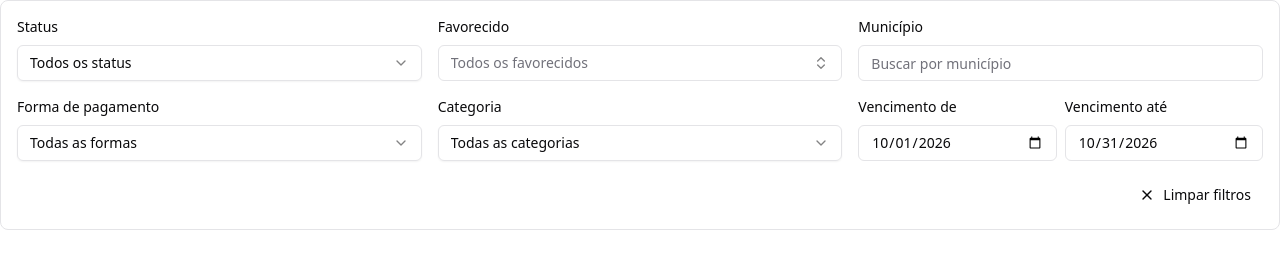
Scenario: ReportFilterPanel › restaura o mês corrente e remove o status ao limpar os filtros
What coordinates should you click on to do the following:
click the dropdown with test id "filter-status"
I would click on:
 (81, 62)
Its box is [17, 45, 422, 81].
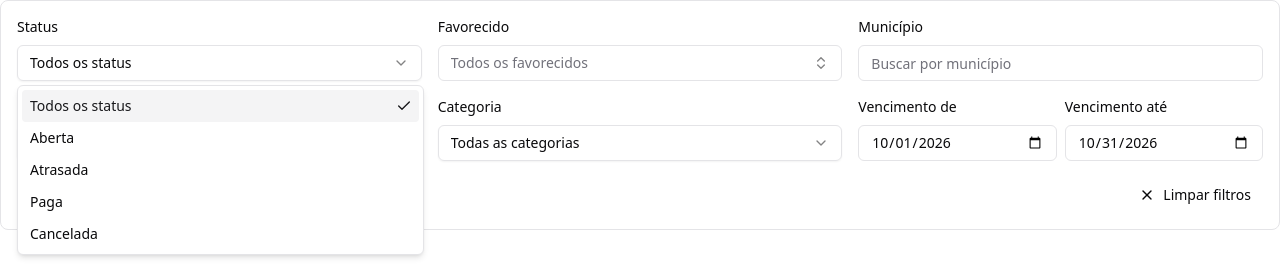
What coordinates should you click on to do the following:
click the option "Paga"
I would click on:
 (46, 202)
Its box is [30, 192, 63, 211].
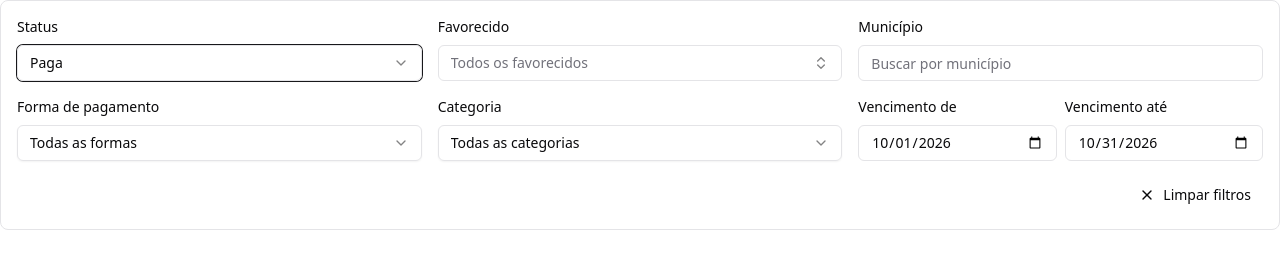
expect the dropdown with test id "filter-status" reads "Paga": met, box [17, 45, 422, 81]
What coordinates should you click on to do the following:
click the button with test id "clear-filters-button"
I would click on:
 (1195, 195)
Its box is [1127, 177, 1263, 213].
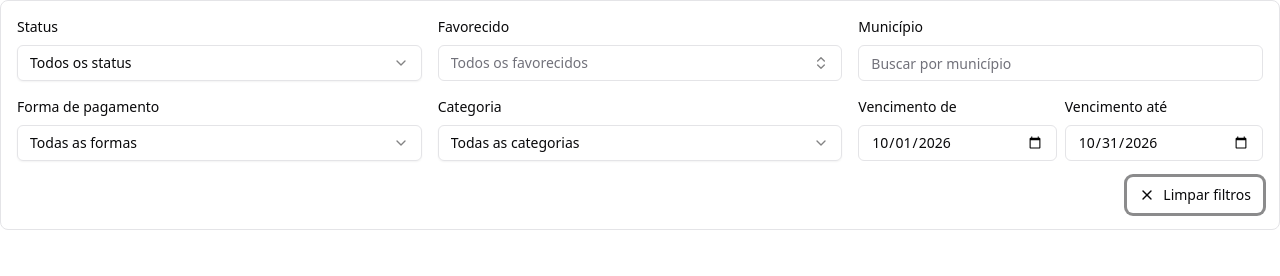
expect the dropdown with test id "filter-status" reads "Todos os status": met, box [17, 45, 422, 81]
